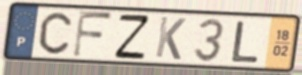3: (190, 17, 227, 64)
C: (37, 11, 74, 56)
F: (70, 9, 115, 60)
K: (153, 15, 188, 62)
L: (229, 19, 262, 64)
Z: (113, 13, 152, 60)
